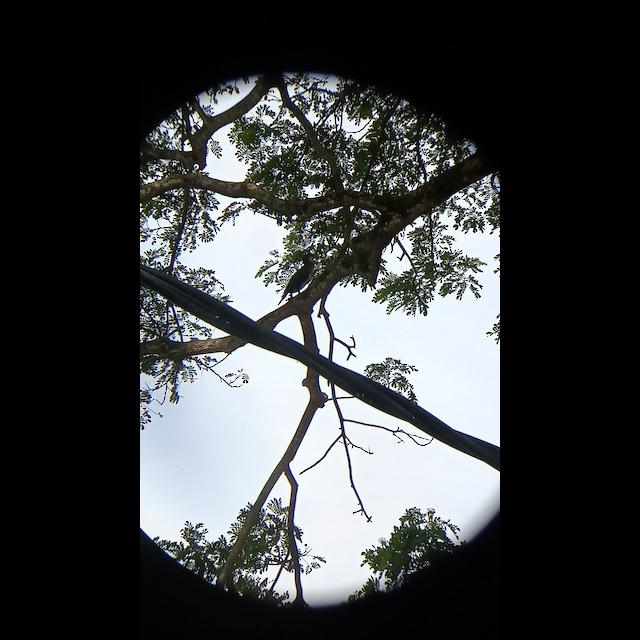cormorant: (280, 254, 316, 302)
